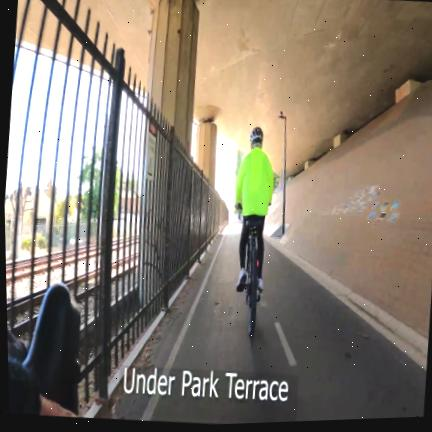Bike_Lane: (154, 233, 426, 424)
